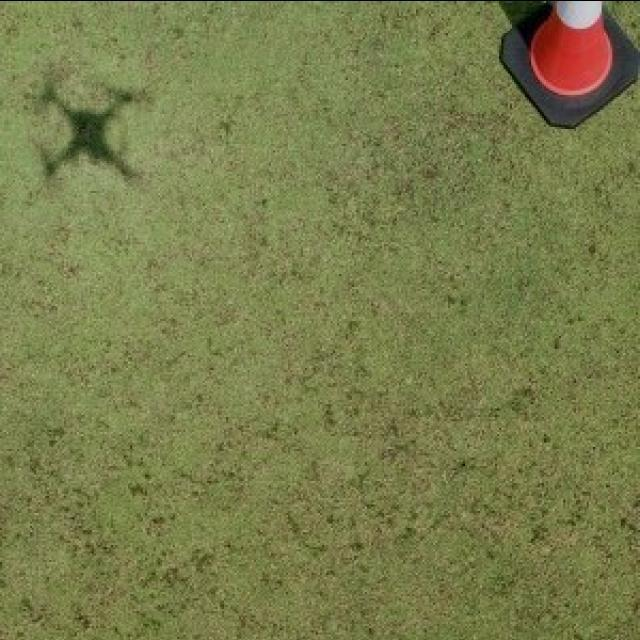traffic cone: (499, 0, 639, 129)
